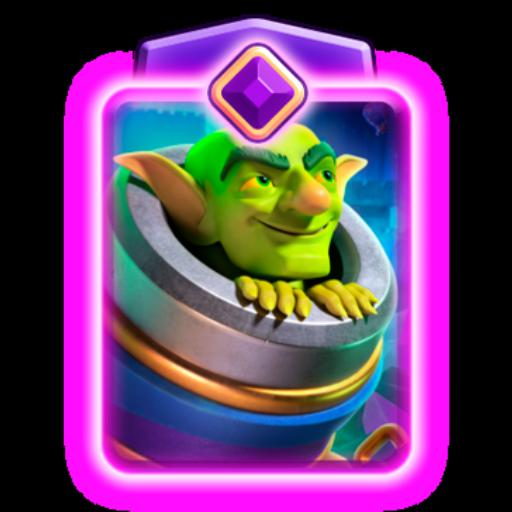mortar-evo: (104, 99, 404, 469)
